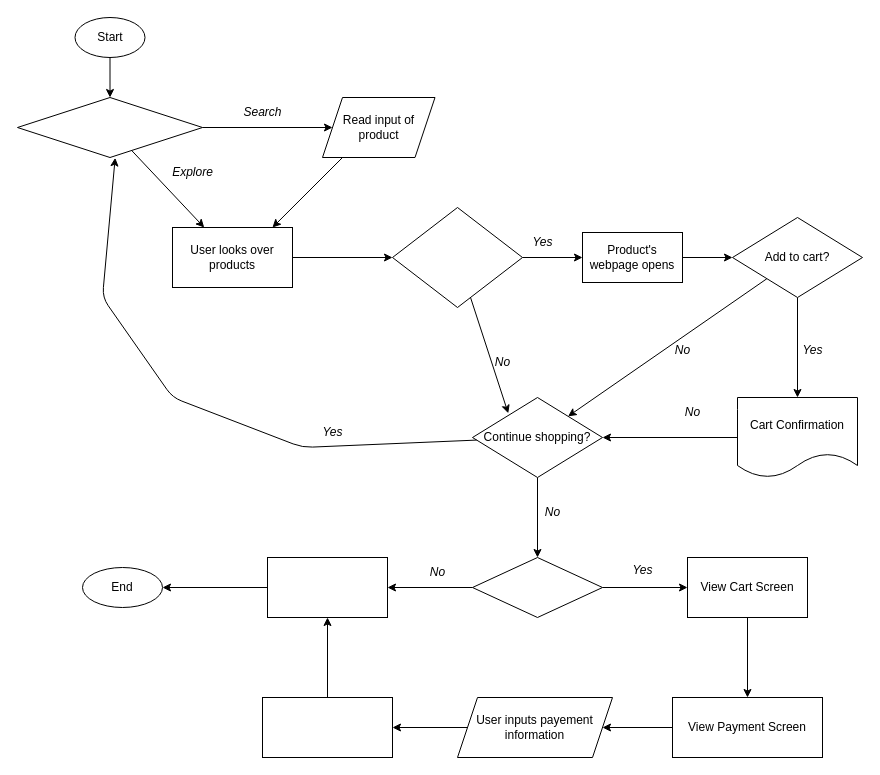
Image size: 880x775. Some labels were removed from this diagram. The shapes that lost their labels are listed below. From the top down, each one's centre as x and y in pixels, then its label:
[109,127]: Search or Explore Product?
[457,257]: View specific product?
[327,587]: User leaves website
[537,587]: Checkout?
[327,727]: Order Confirmation Screen displays; User receives email
